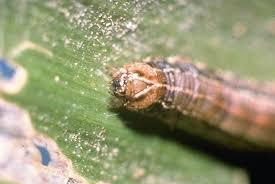fallarmy_worm: (99, 47, 275, 151)
